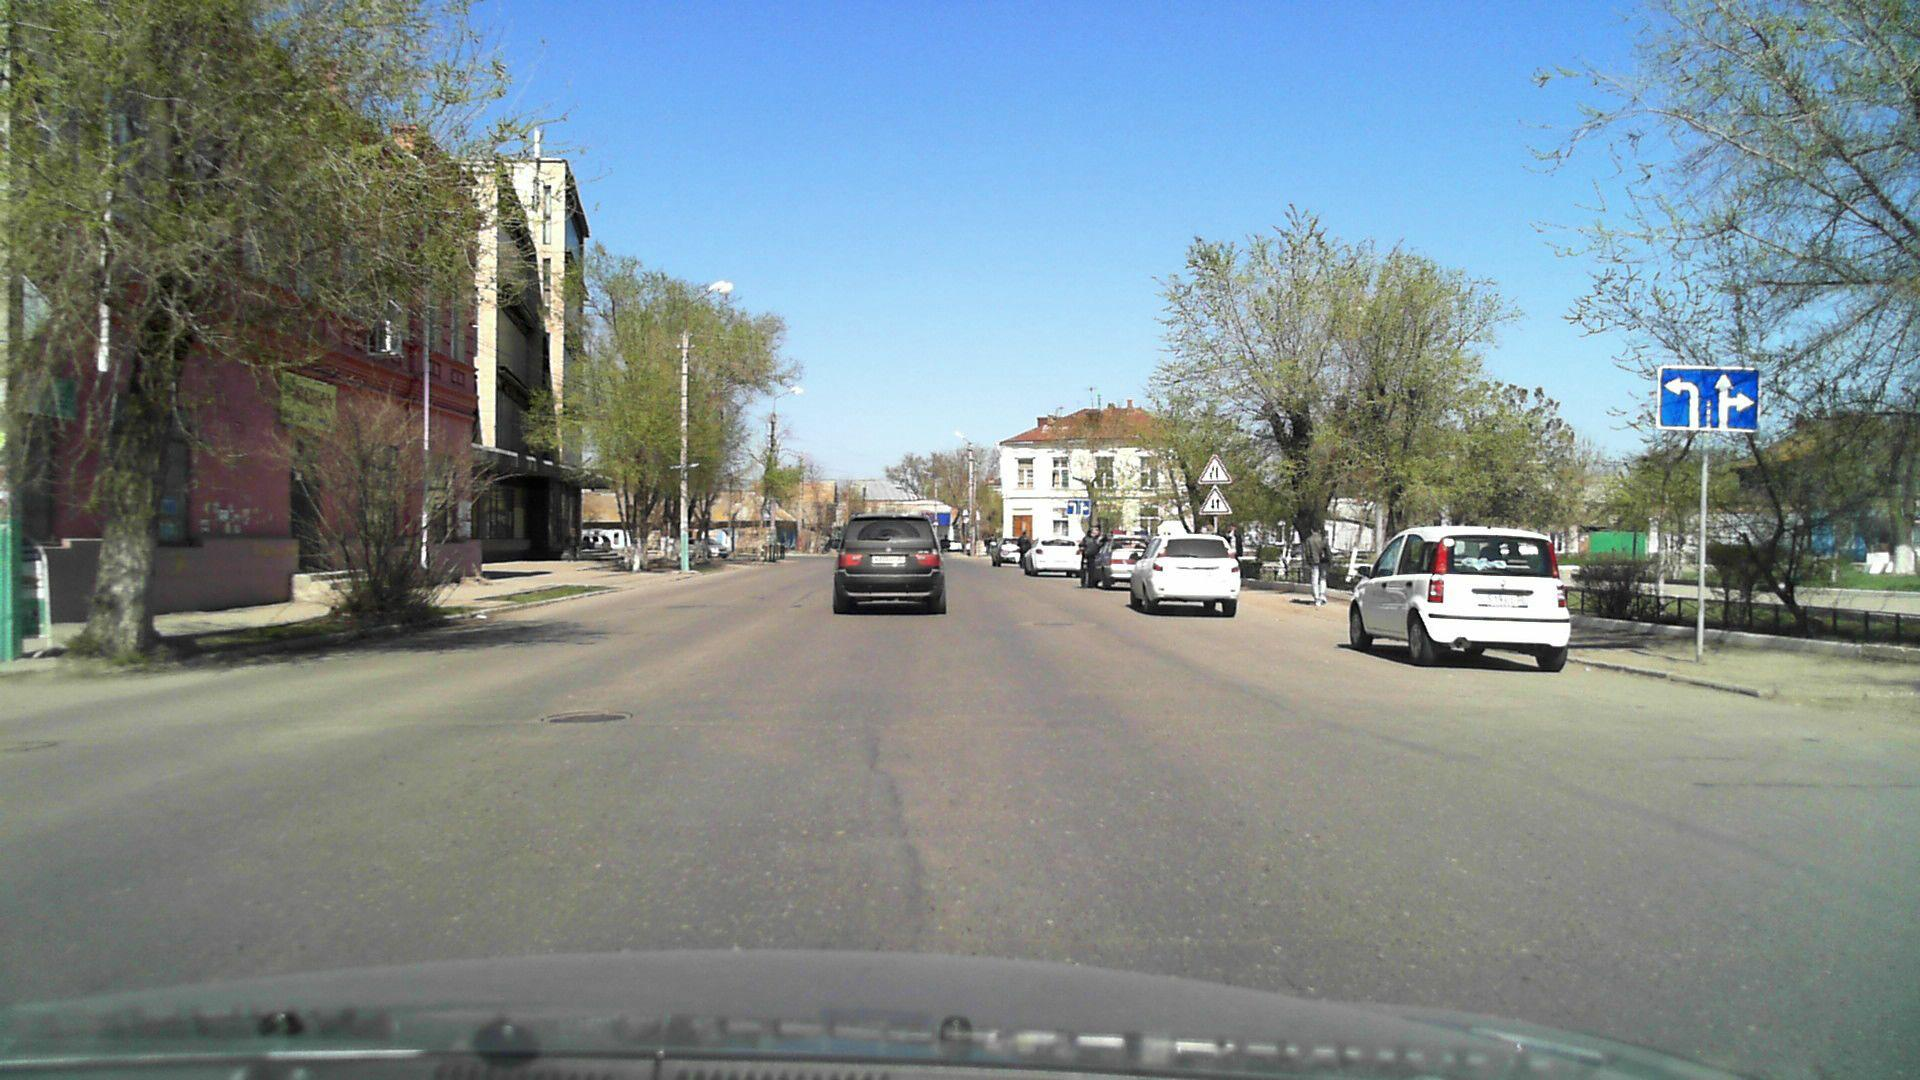1_20_3: (1195, 454, 1236, 485)
1_21: (1199, 487, 1233, 518)
5_15_1: (1648, 364, 1764, 434), (1064, 497, 1093, 518)
